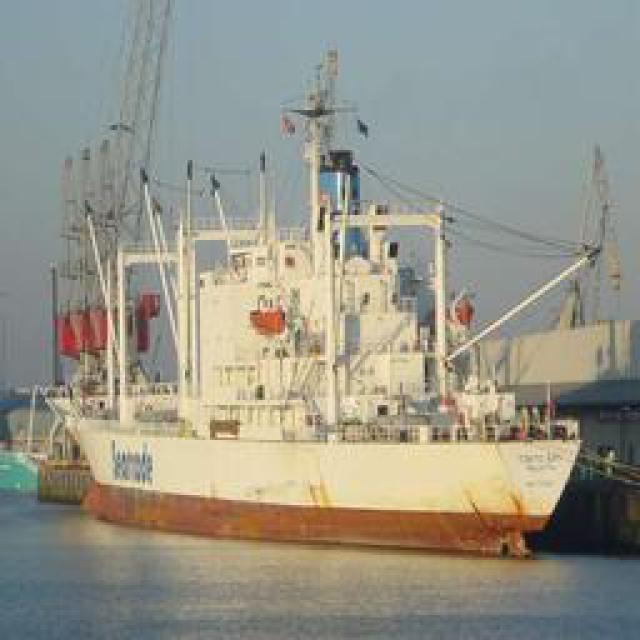Ship: (46, 111, 604, 562)
